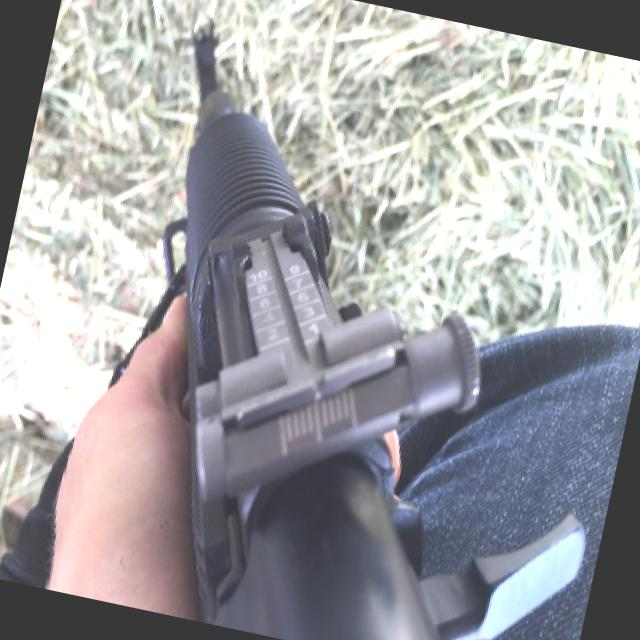long weapon: (50, 0, 569, 639)
